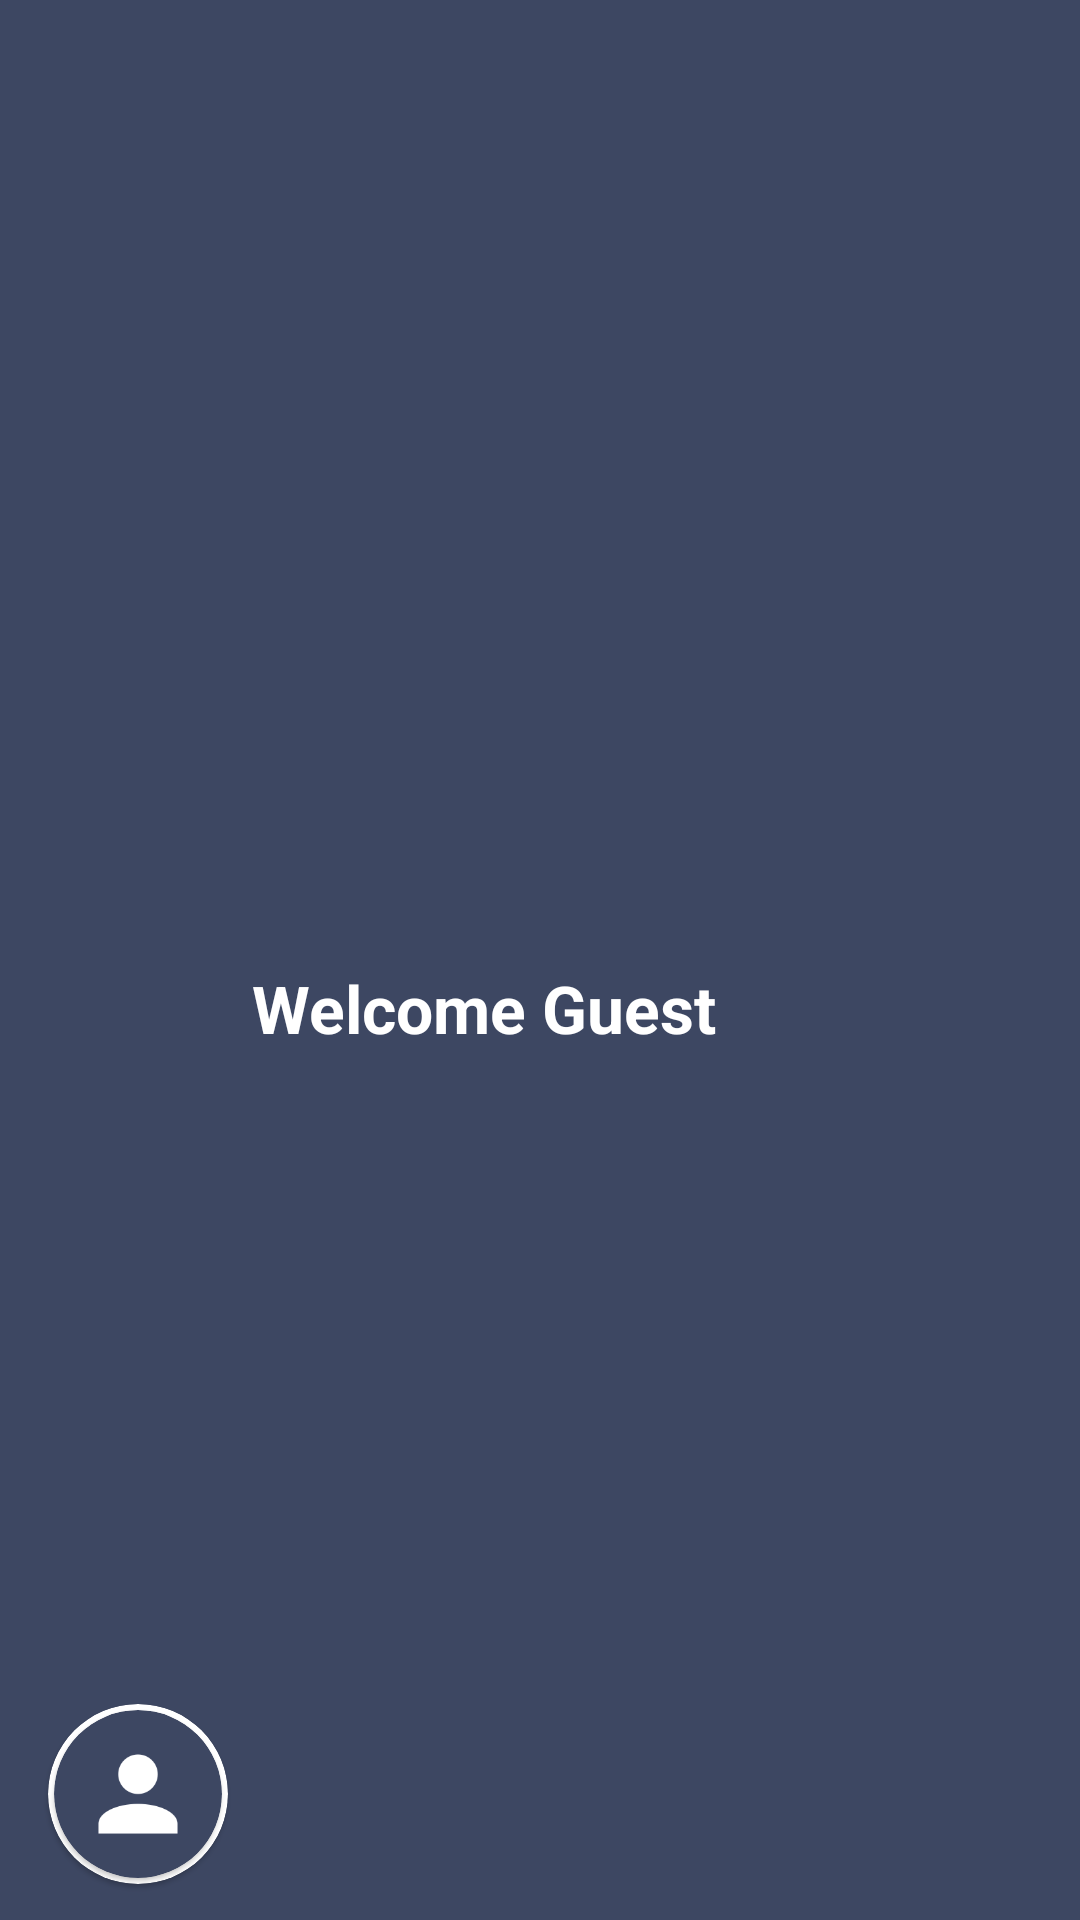

Screen size 1080w x 1920h. Icon name, then its center in pixels as (x=x, y=y):
user: (x=138, y=1794)
